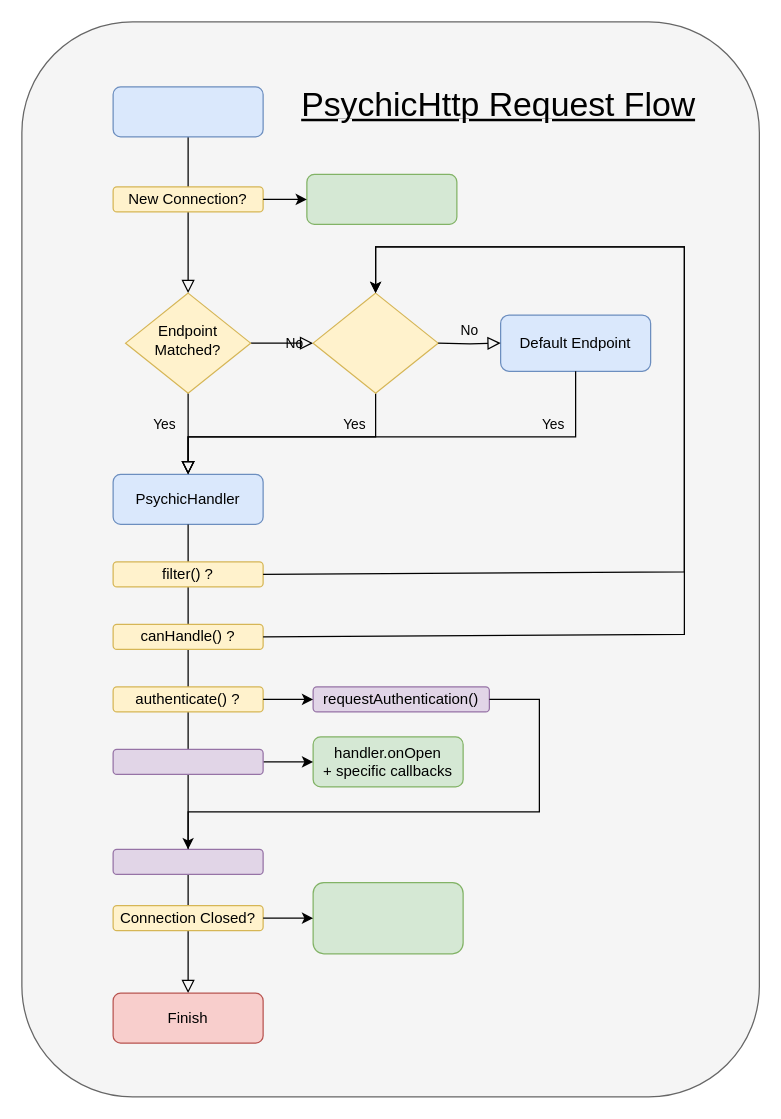
Some shapes in this 781 by 1119 pixel diagram are drawn without their labels. The box of each missing label's shape, as (x1, y1, x2, y2) in pixels:
handler.onClose server.onClose Callbacks: (312, 881, 463, 954)
handleRequest(): (112, 748, 263, 774)
HTTP Request: (112, 86, 263, 137)
Matching Handler?: (312, 292, 438, 393)
response.send(): (112, 848, 263, 874)
server.onOpen Callback: (306, 173, 457, 224)
